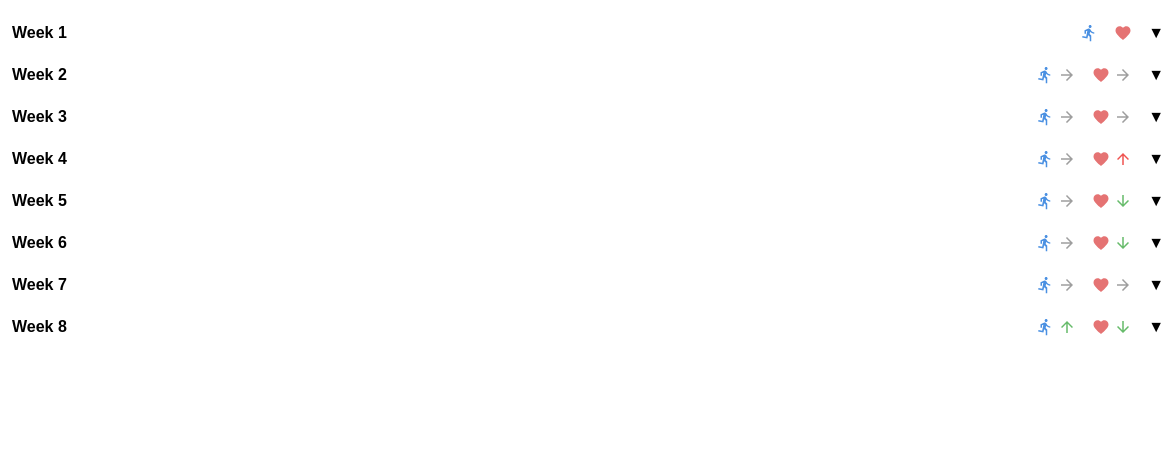
it: RunnerDashboard — enforce-visual-theme Gherkin scenarios › Scenario 1: Each activity row has a non-empty data-activity-type attribute › each activity-row within week-activities for Week 8 has non-empty data-activity-type
Click the button "Week 8 ▼": [39, 326] box [12,306,1164,348]
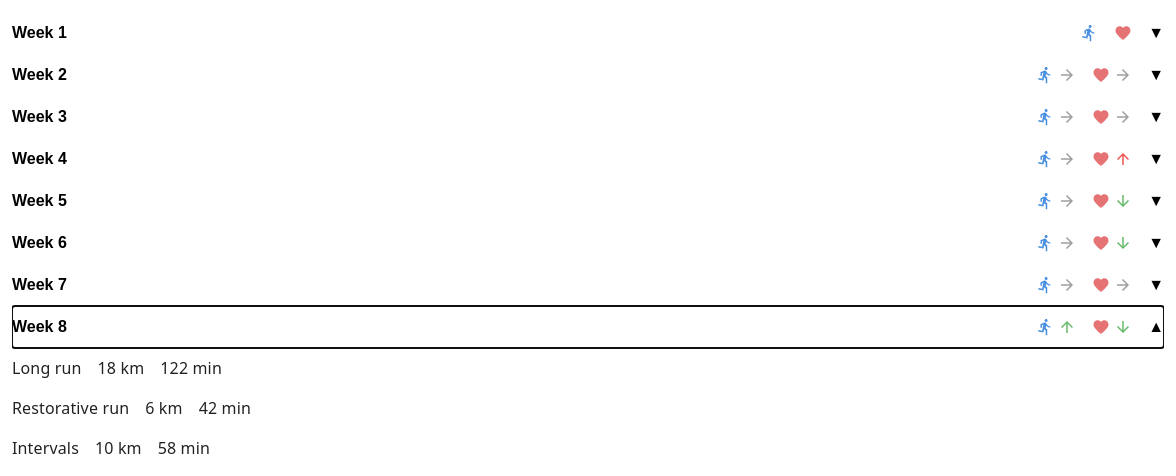
Check: the element with test id "activity-row" showing "Long run 18 km 122 min" is shown, box [12,357,222,379]
